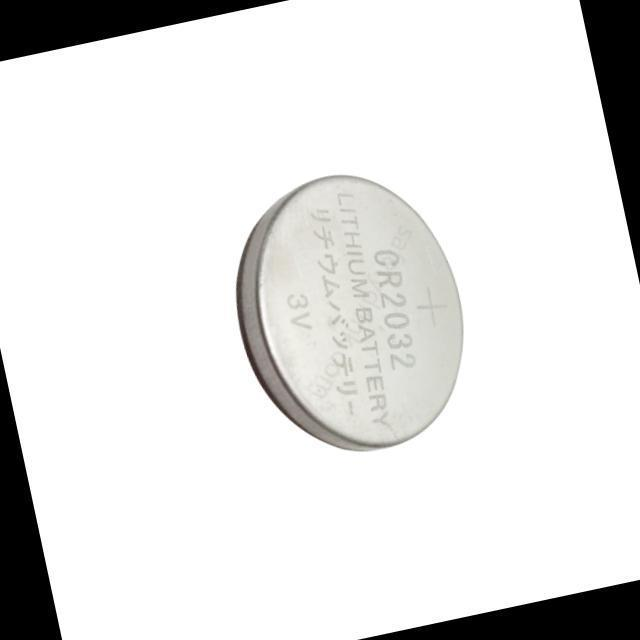COIN: (211, 153, 488, 472)
